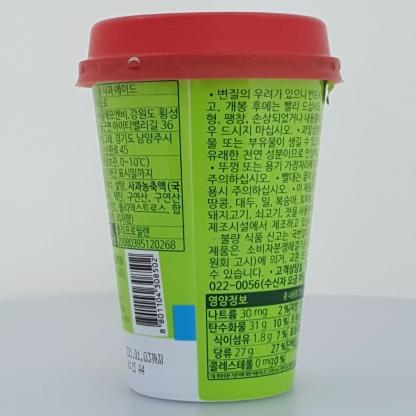--------: (74, 12, 343, 402)
